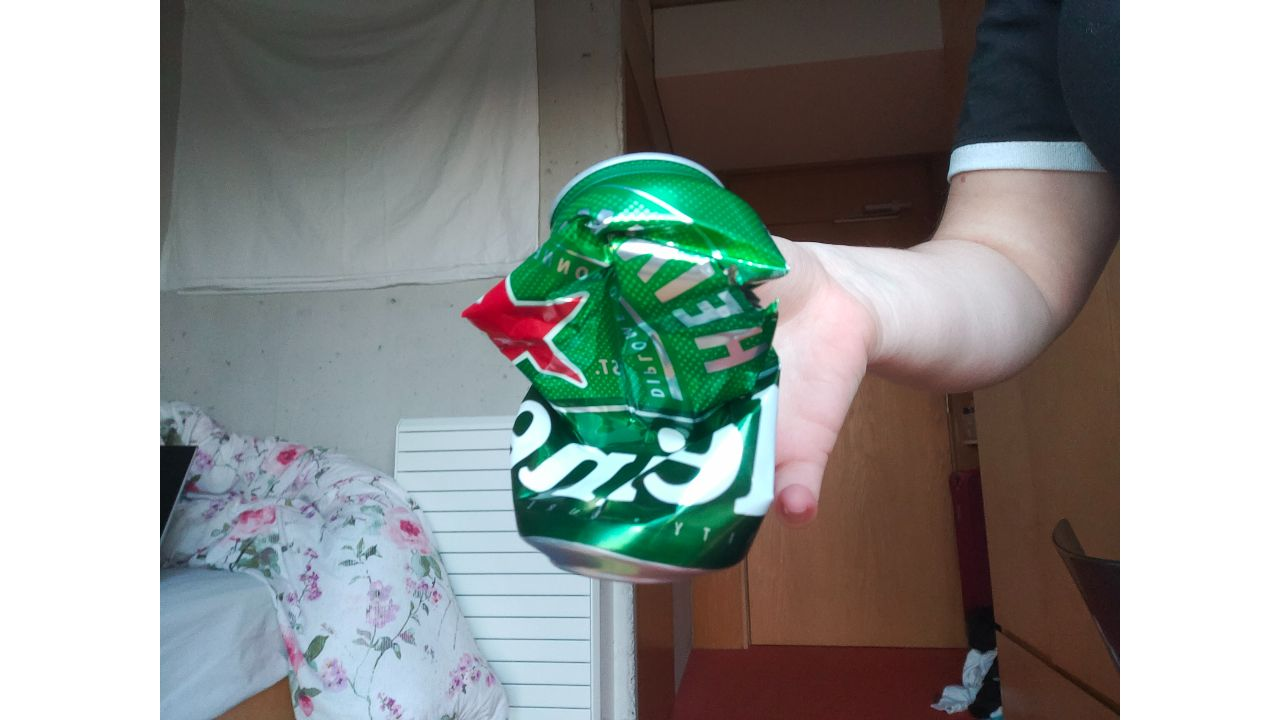Can: (460, 150, 786, 586)
